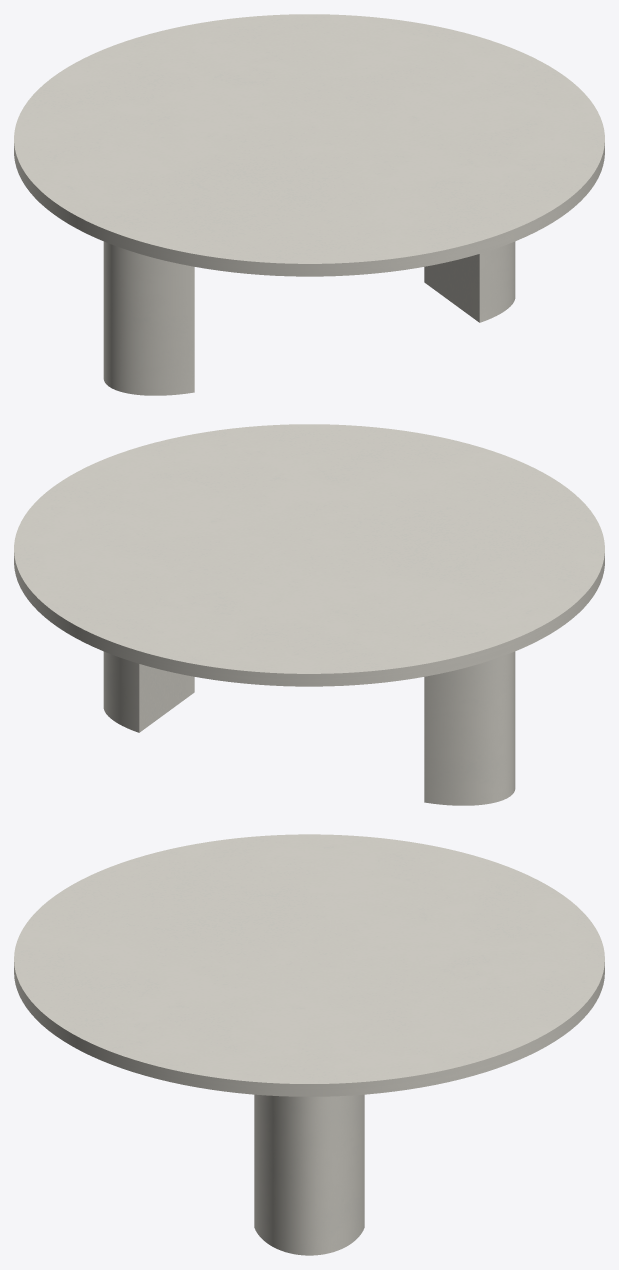
Rendered from pale_round_standard_hillside.glb.
3 views of the same model, one above another, from view 1: azimuth 30°, elevation 25°; view 2: azimuth 150°, elevation 25°; view 3: azimuth 270°, elevation 25° (orthographic).
Parts seen in each view (by area): view 1: standard_round, hillside; view 2: standard_round, hillside; view 3: standard_round, hillside.
Boxes of the visible parts, x1,y1,x2,y2 form: standard_round: [14, 14, 604, 276]; hillside: [103, 241, 515, 395]; standard_round: [14, 424, 604, 686]; hillside: [103, 651, 515, 805]; standard_round: [14, 834, 604, 1096]; hillside: [254, 1094, 364, 1255].
Bounding box in the file's own units: 6.75 × 2.5 × 6.75.
1 material, 1 textured.
